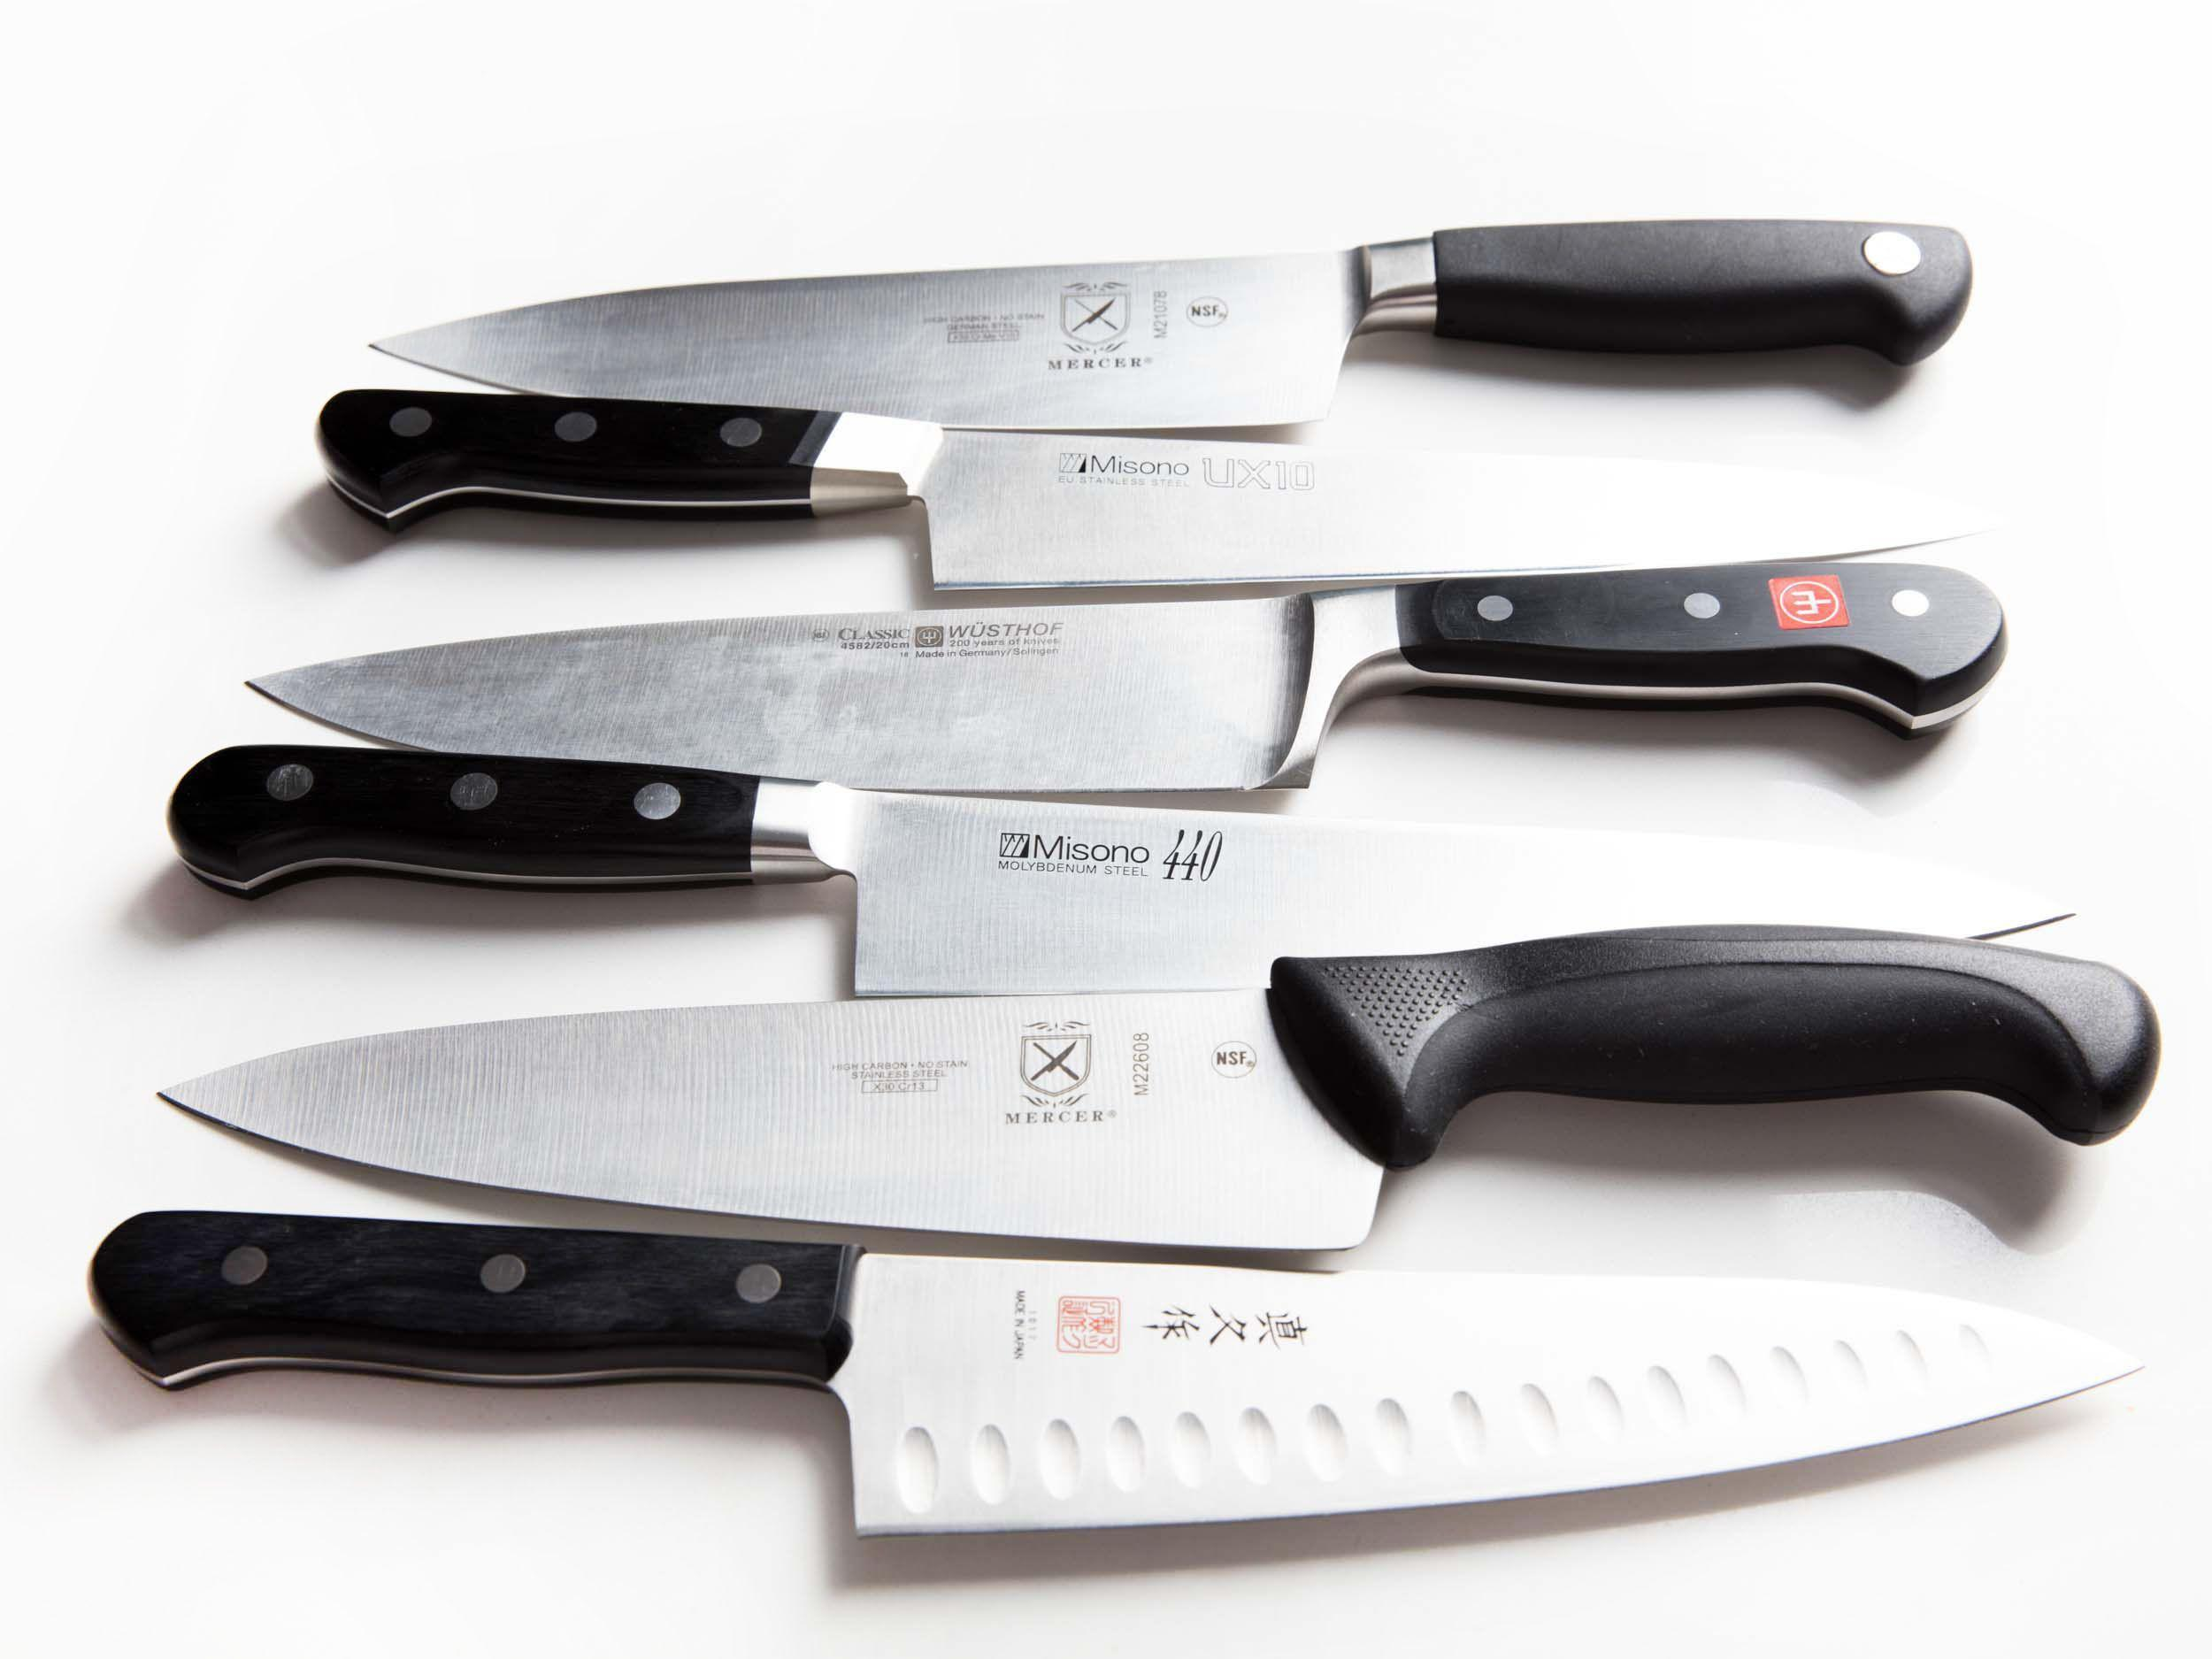faca: (89, 1211, 2135, 1534), (160, 925, 2158, 1249), (171, 744, 2073, 995), (249, 554, 2006, 793), (373, 220, 1972, 430), (315, 389, 1975, 589)
